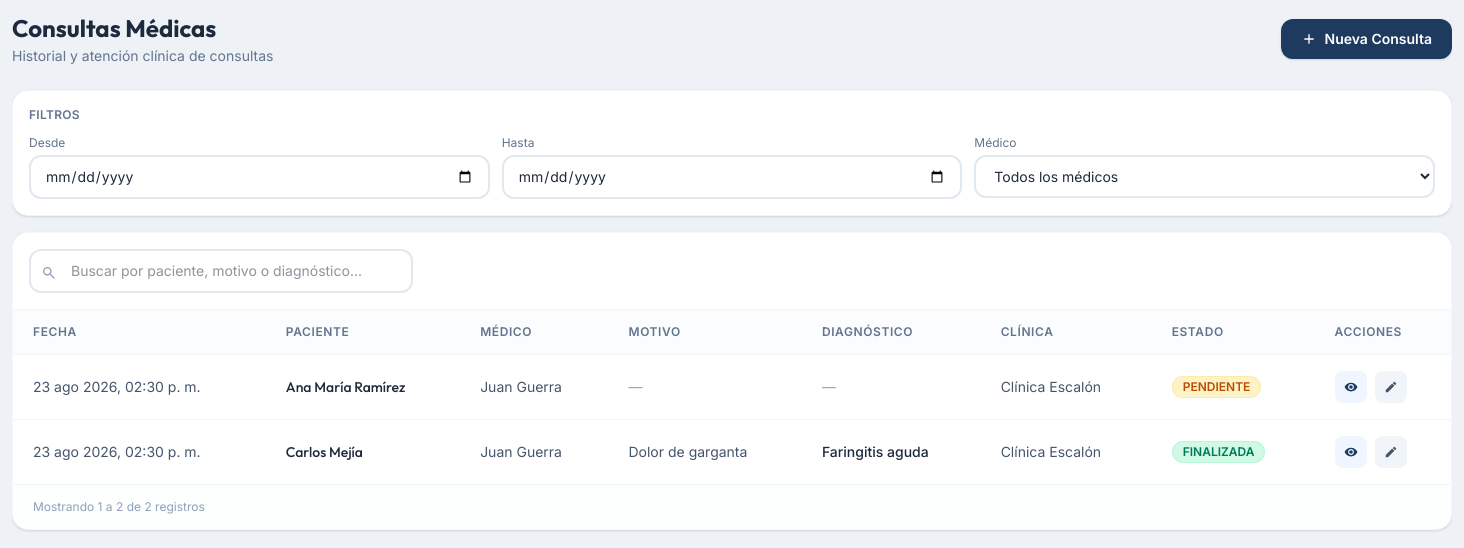
it: consultas · buscar con una consulta sin motivo en la lista › sigue encontrando por paciente y por diagnóstico con el nulo presente
The width and height of the screenshot is (1464, 548).
Check: the link "Ana María Ramírez" is shown, box [286,378,405,396]
Type "ramírez" into the field with placeholder "Buscar por paciente, motivo o diagnóstico...".
click(221, 271); type("ramírez")  # box [29,249,413,293]
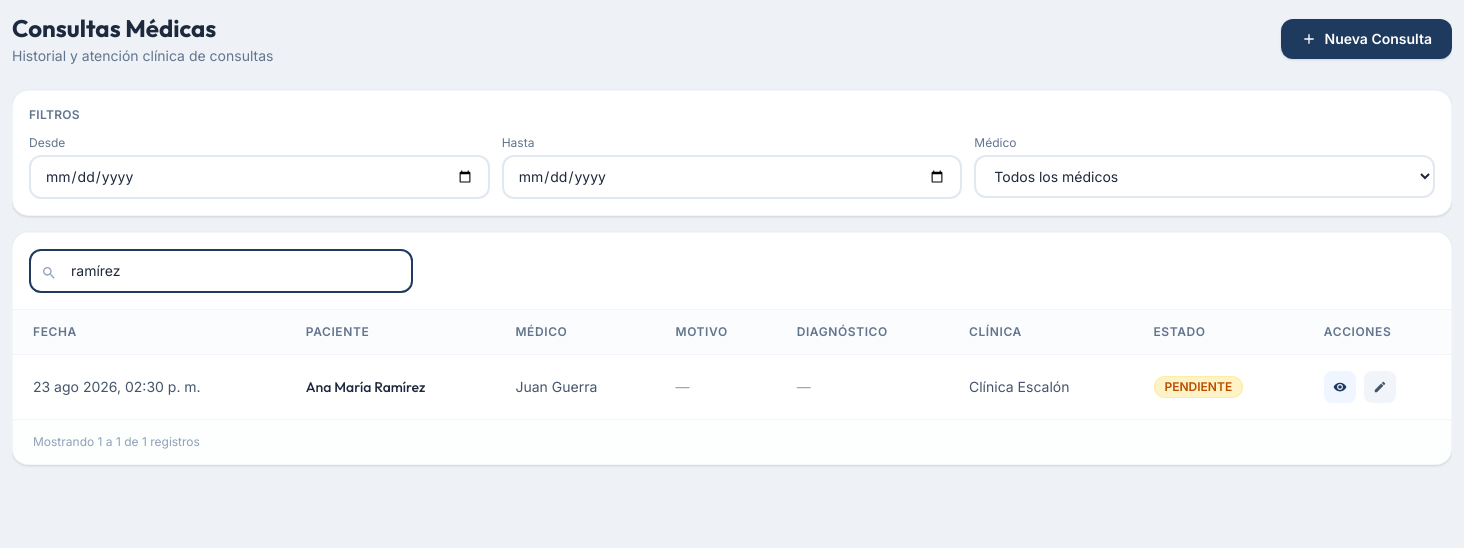
Check: the link "Ana María Ramírez" is shown, box [306,378,425,396]
Check: the link "Carlos Mejía" is gone
Replace the text in the field with placeholder "Buscar por paciente, motivo o diagnóstico..." with "faringitis" at (221, 271), box [29,249,413,293]
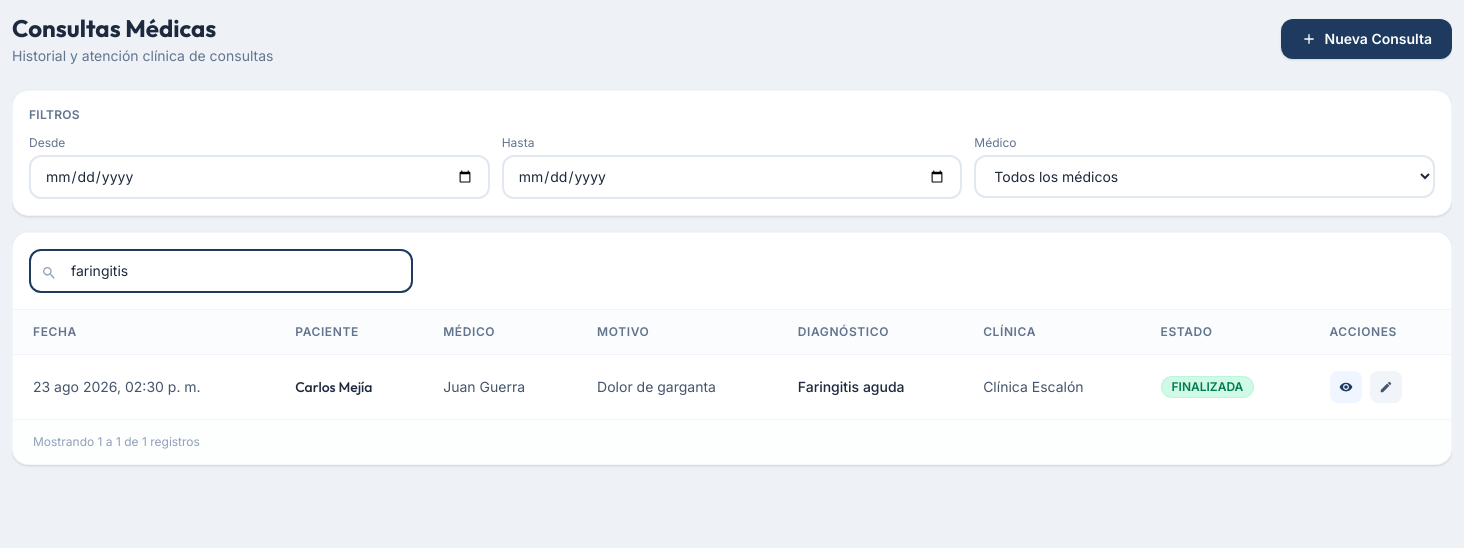
Check: the link "Carlos Mejía" is shown, box [295,378,372,396]
Check: the link "Ana María Ramírez" is gone
